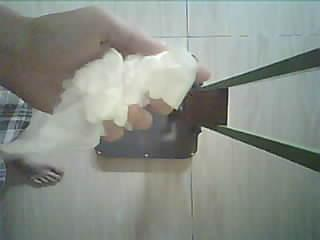paper: (0, 50, 197, 239)
